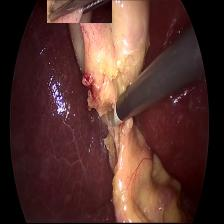Grasper: (47, 0, 112, 23)
Hook: (106, 99, 126, 130)
